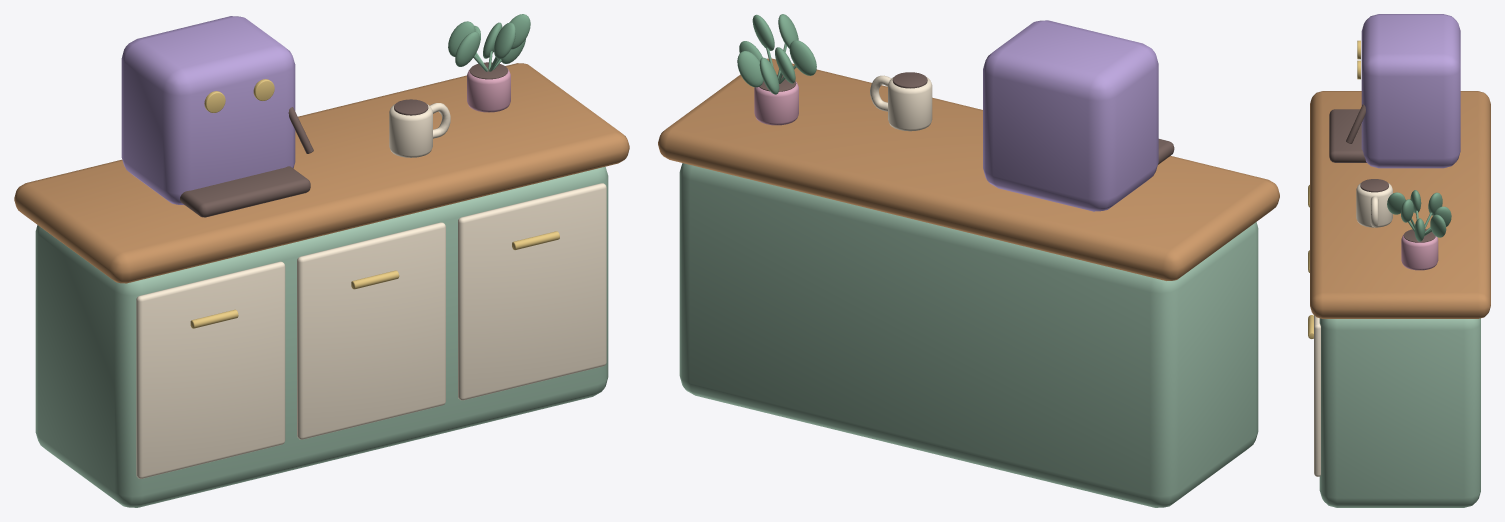
The model's file is coffee-bar.glb.
3 renders of one model, left to right at view 1: azimuth 30°, elevation 25°; view 2: azimuth 150°, elevation 25°; view 3: azimuth 270°, elevation 25°, orthographic. The views are drawn at different scales.
Visible parts, largest first — view 1: AssetSurface; view 2: AssetSurface; view 3: AssetSurface.
Part boxes in pixels (<box>): AssetSurface: <box>14,14,629,507</box>; AssetSurface: <box>658,14,1279,507</box>; AssetSurface: <box>1308,14,1490,507</box>.
Bounding box in the file's own units: 2.32 × 1.72 × 0.849.
